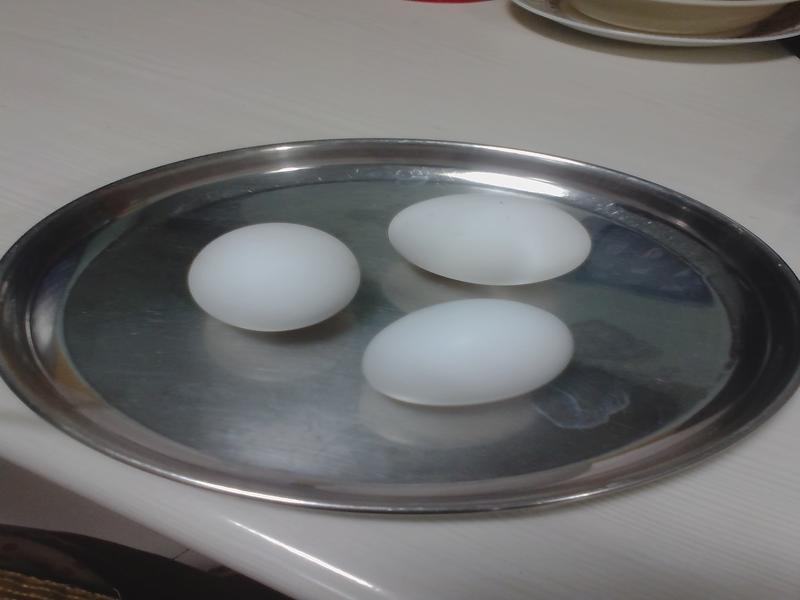egg: (189, 216, 356, 334)
